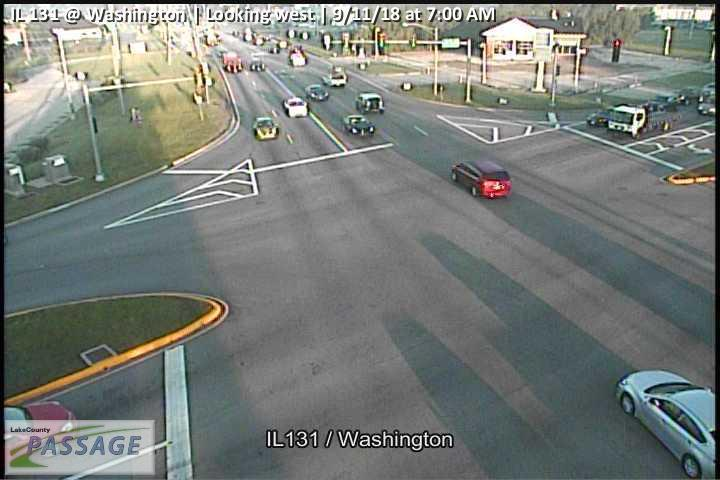SUV: (449, 157, 512, 199)
Sedan: (615, 368, 719, 480), (340, 113, 376, 137), (354, 91, 385, 116), (251, 115, 279, 140), (282, 94, 310, 118), (304, 84, 328, 102)
Truck: (606, 100, 681, 141)
